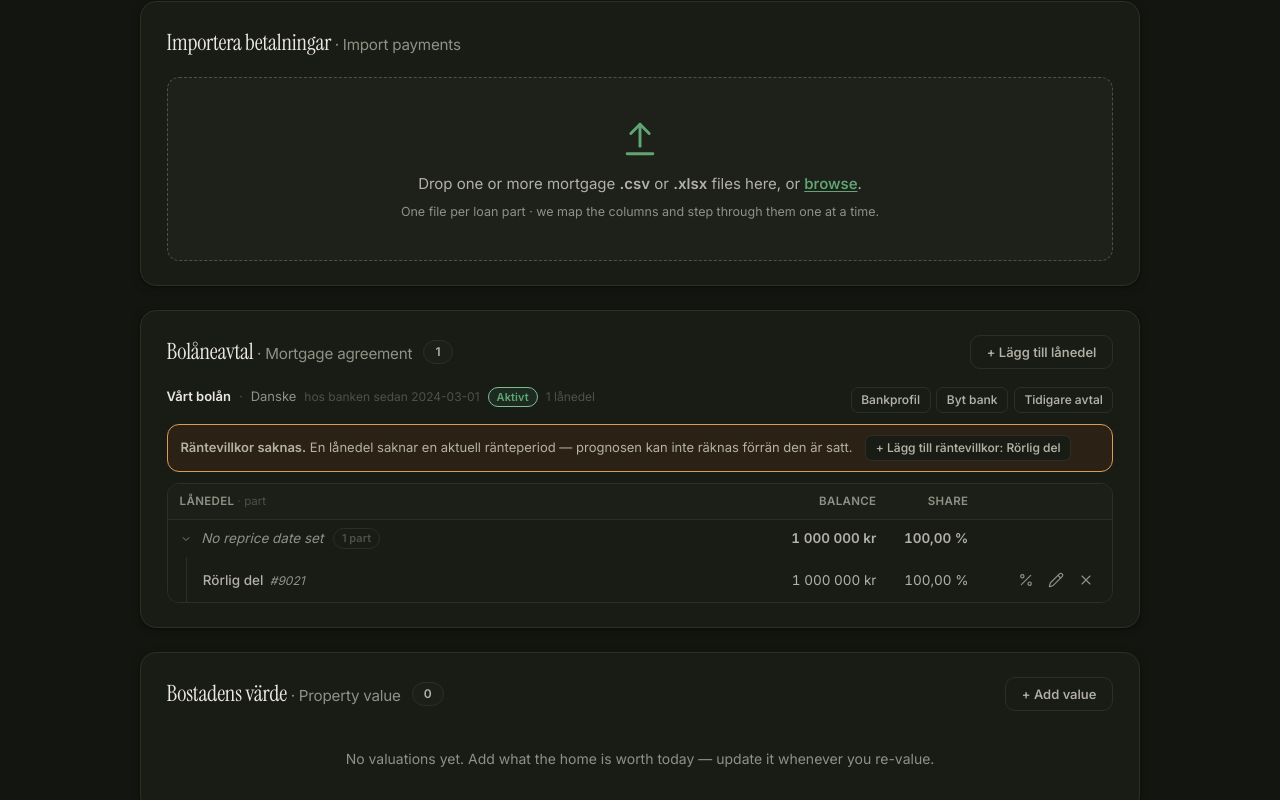
Test: Bolanekoll — bank profile modal save (plan 109c Stage 1) › persists a declared lock and closes the modal on a successful save
This screenshot has width=1280, height=800.
(page scrolled)
Click the button "Bankprofil".
click(891, 400)  # box x1=851 y1=387 x2=931 y2=413
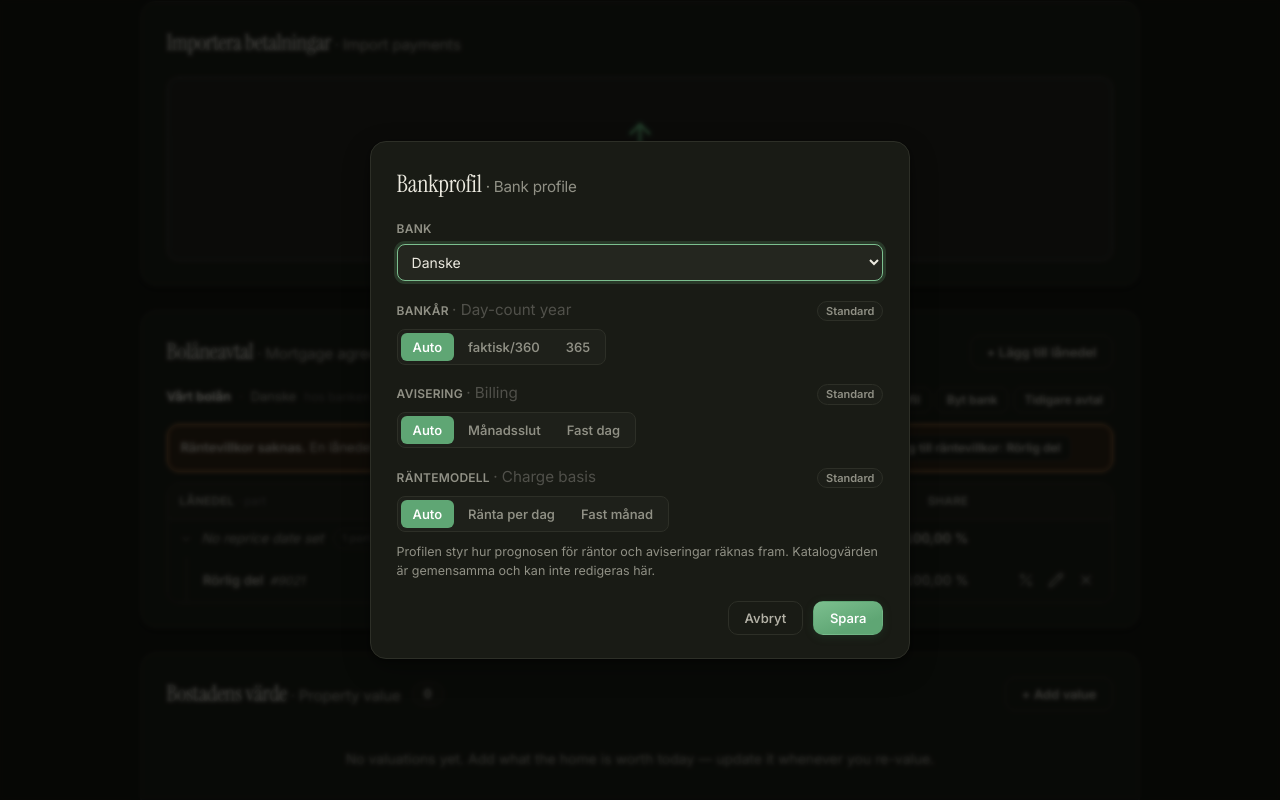
Click the radio button labelled "365".
click(578, 347)  # box x1=554 y1=333 x2=602 y2=361
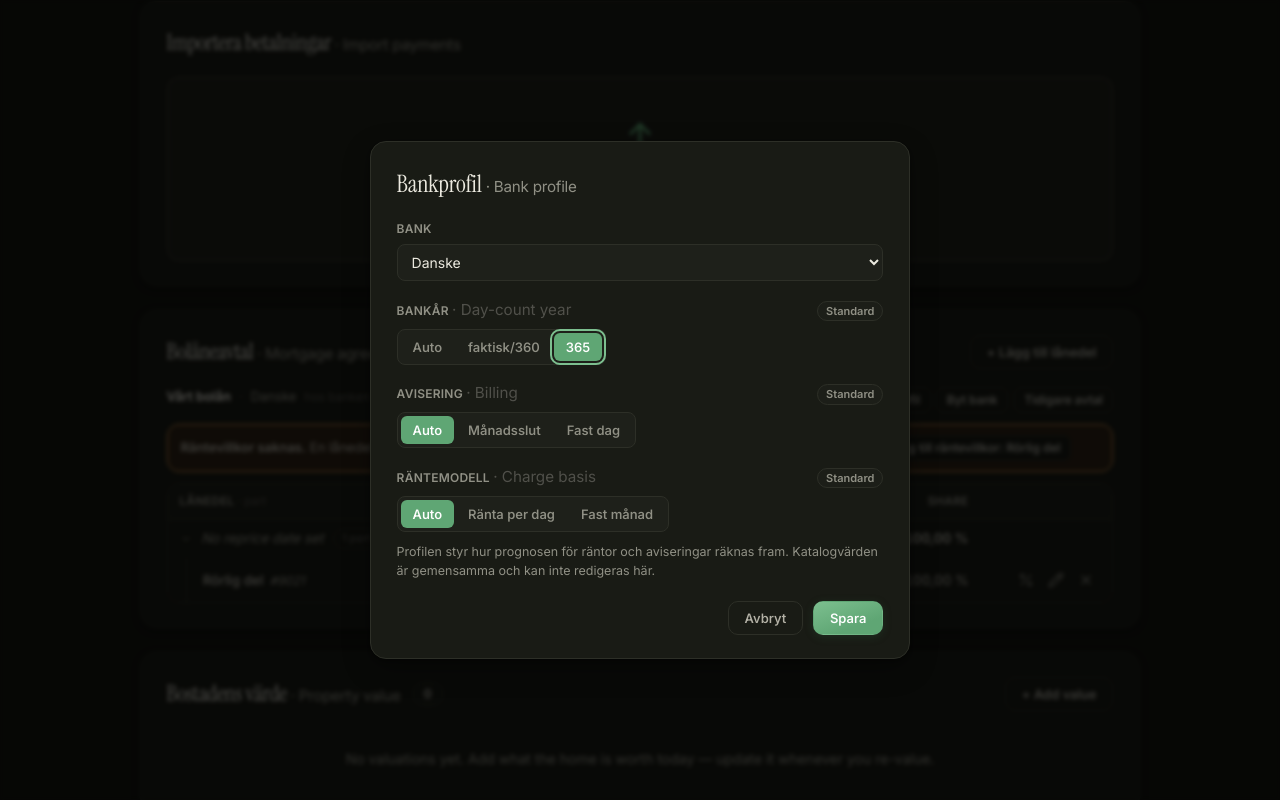
Click the button "Spara".
click(848, 618)  # box x1=813 y1=601 x2=883 y2=635
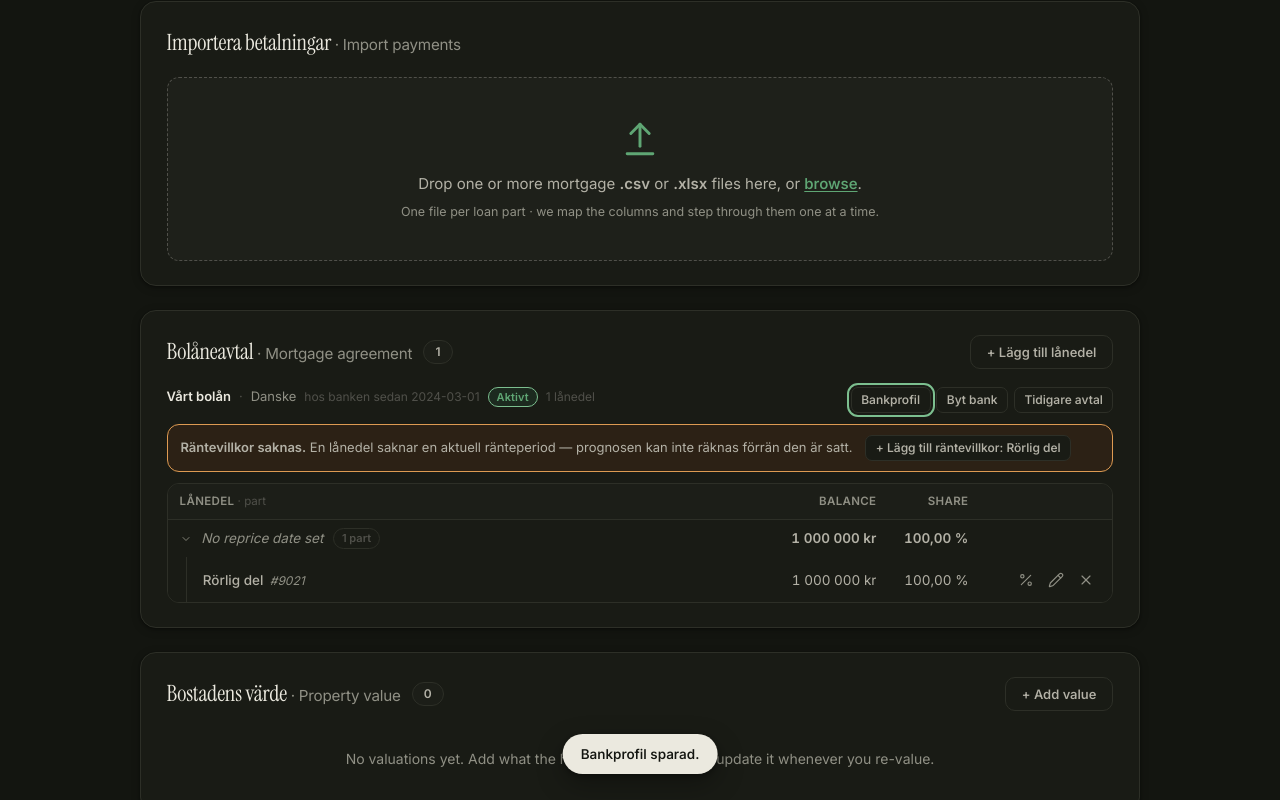
expect the text "Bankprofil sparad." is shown: met, box x1=563 y1=734 x2=717 y2=774
